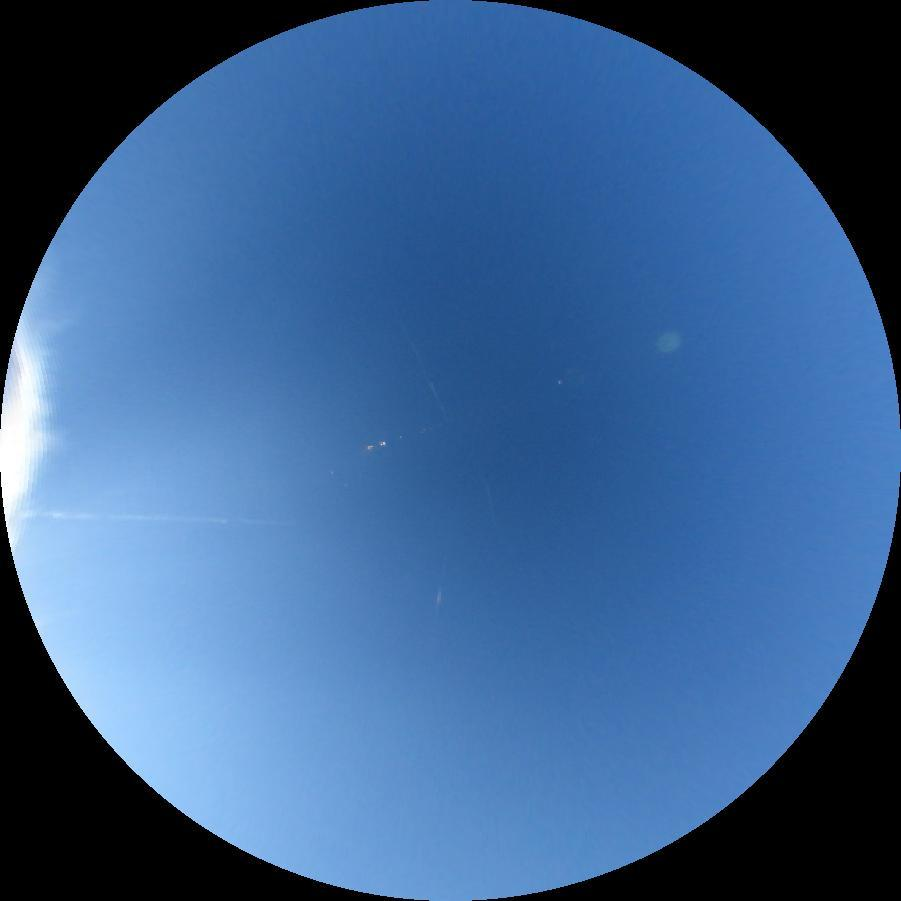parasite: (24, 510, 298, 528), (401, 325, 450, 419), (482, 475, 496, 523), (433, 582, 443, 621)
